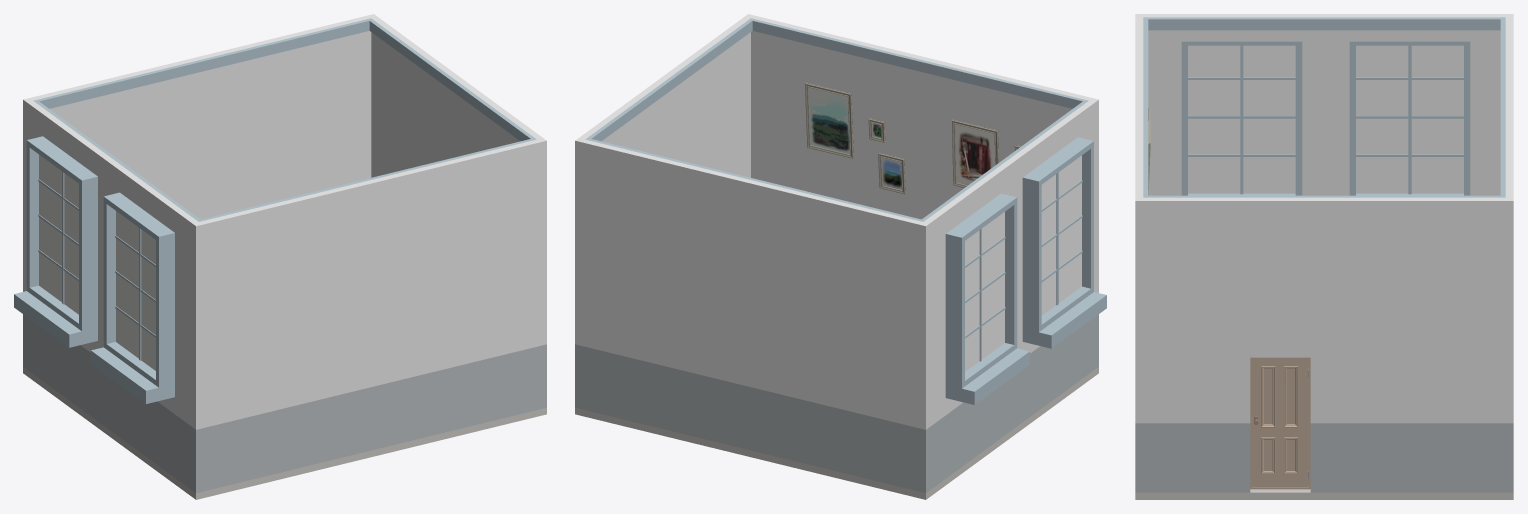
Rendered from 883_guest_room_view.glb.
3 views of the same model, side by side, from view 1: azimuth 30°, elevation 25°; view 2: azimuth 150°, elevation 25°; view 3: azimuth 270°, elevation 25° (orthographic). The views are drawn at different scales.
Visible parts, largest first — view 1: kabe3, kabe4, kabe1, kabe2, 床; view 2: kabe1, kabe4, kabe3, kabe2, 床, Body4, Body4.001, 369_額縁(中); view 3: kabe2, kabe4, 戸, kabe3, kabe1, 床.
Boxes of the visible parts, left/top/right/bottom form: kabe3: left=190, top=138, right=546, bottom=492; kabe4: left=14, top=100, right=205, bottom=493; kabe1: left=23, top=14, right=376, bottom=370; kabe2: left=369, top=16, right=546, bottom=409; 床: left=23, top=367, right=546, bottom=499; kabe1: left=575, top=138, right=931, bottom=491; kabe4: left=916, top=98, right=1106, bottom=493; kabe3: left=745, top=14, right=1098, bottom=366; kabe2: left=575, top=16, right=752, bottom=362; 床: left=575, top=367, right=1098, bottom=499; Body4: left=805, top=82, right=853, bottom=158; Body4.001: left=952, top=119, right=998, bottom=187; 369_額縁(中): left=878, top=152, right=905, bottom=194; kabe2: left=1135, top=195, right=1513, bottom=492; kabe4: left=1136, top=14, right=1513, bottom=195; 戸: left=1252, top=357, right=1308, bottom=487; kabe3: left=1135, top=14, right=1148, bottom=492; kabe1: left=1500, top=14, right=1513, bottom=492; 床: left=1135, top=489, right=1513, bottom=499.
Size of the model in its own units: 5.95 by 4.1 by 4.7.
43 materials, 4 textured.
